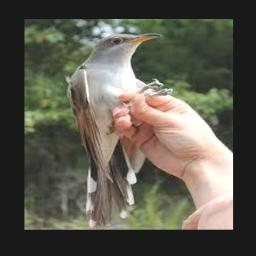Cuckoo: (67, 33, 170, 227)
